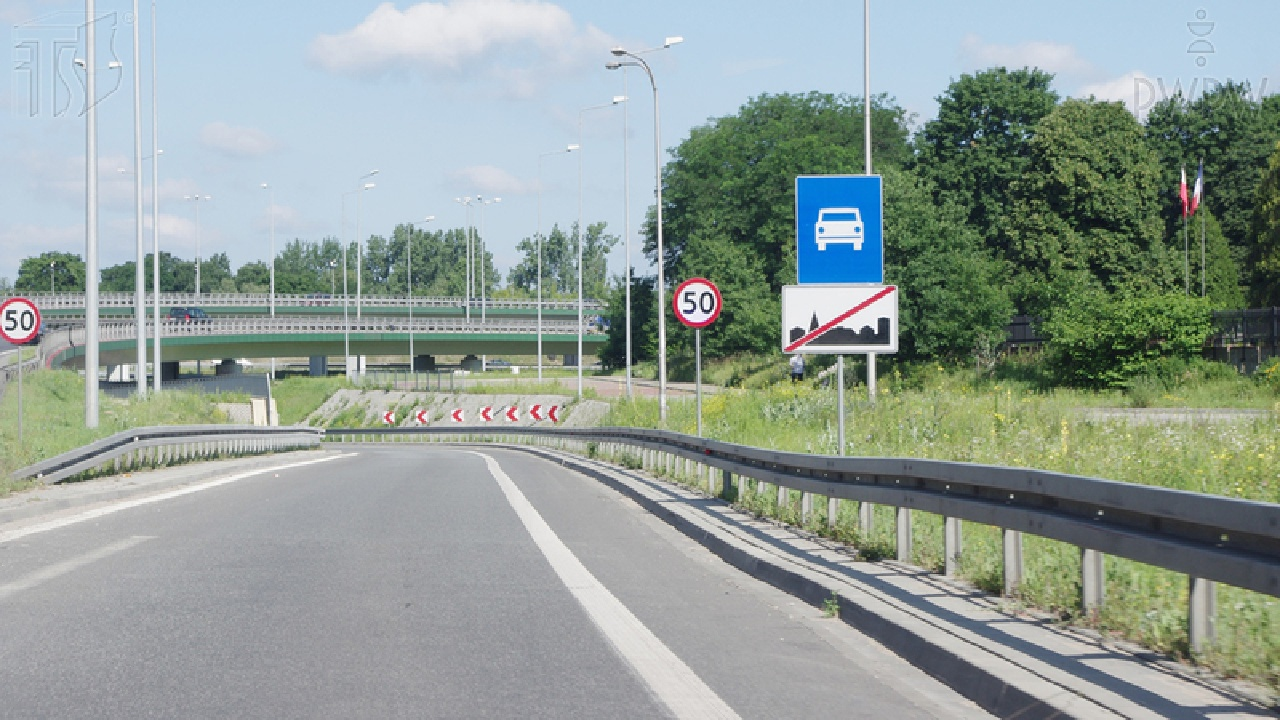B33_50: (670, 271, 726, 326), (1, 294, 52, 347)
D43: (775, 279, 906, 353)
D7: (788, 171, 892, 285)
